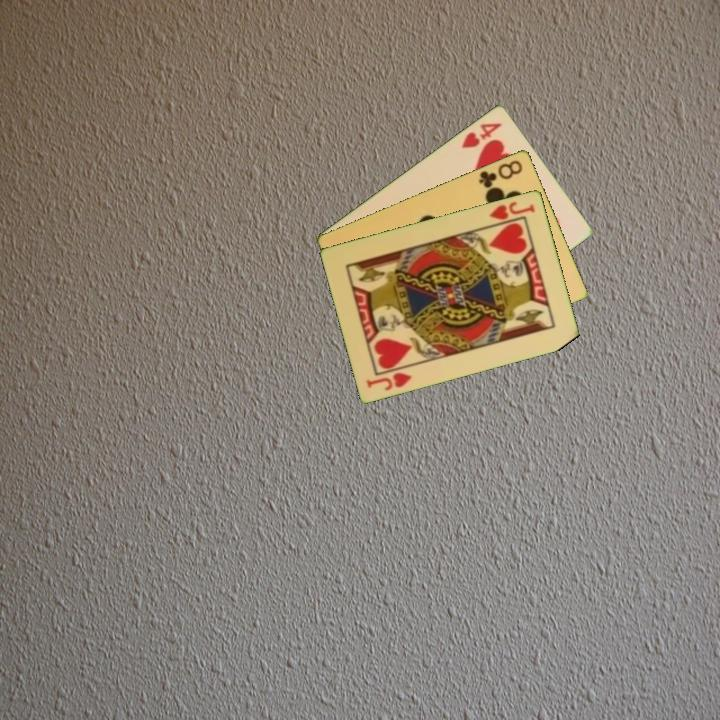4h: (458, 119, 505, 151)
8c: (475, 156, 526, 191)
Jh: (485, 197, 538, 229), (363, 368, 415, 393)
